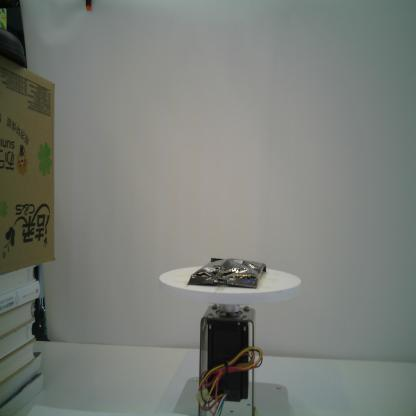Instant Drink: (187, 257, 267, 289)
